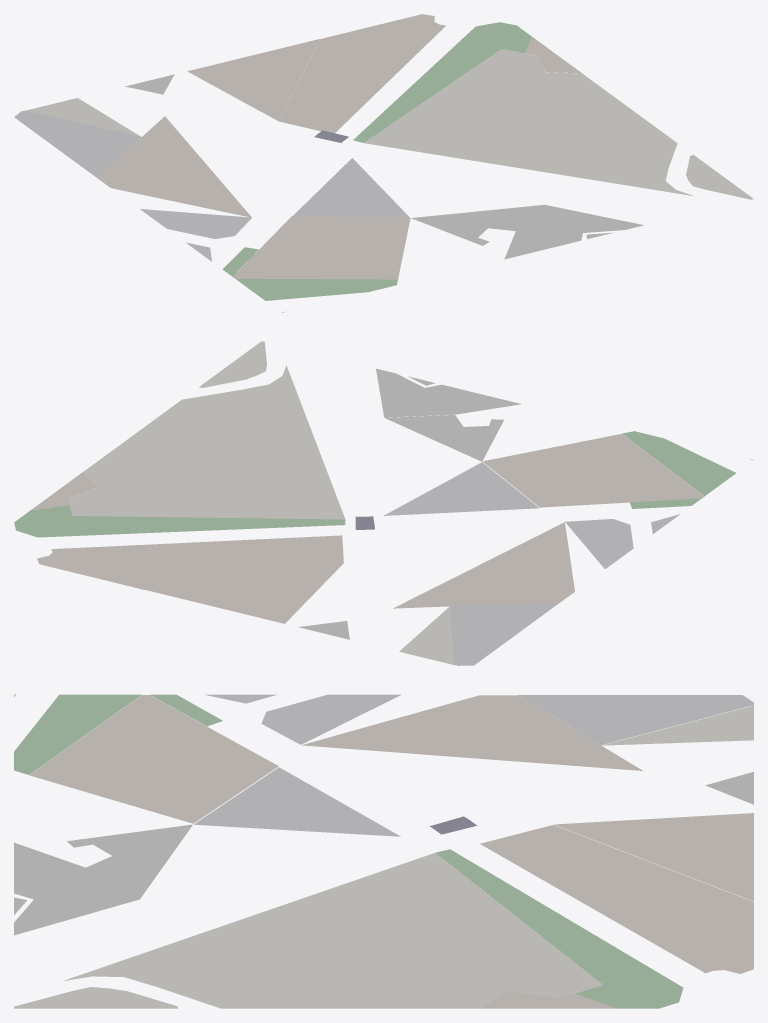
Rendered from 106_114_mid.glb.
3 renders of one model, top to bottom at view 1: azimuth 30°, elevation 25°; view 2: azimuth 150°, elevation 25°; view 3: azimuth 270°, elevation 25°, orthographic. The views are drawn at different scales.
Bounding box in the file's own units: 500 × 7.91 × 500.
